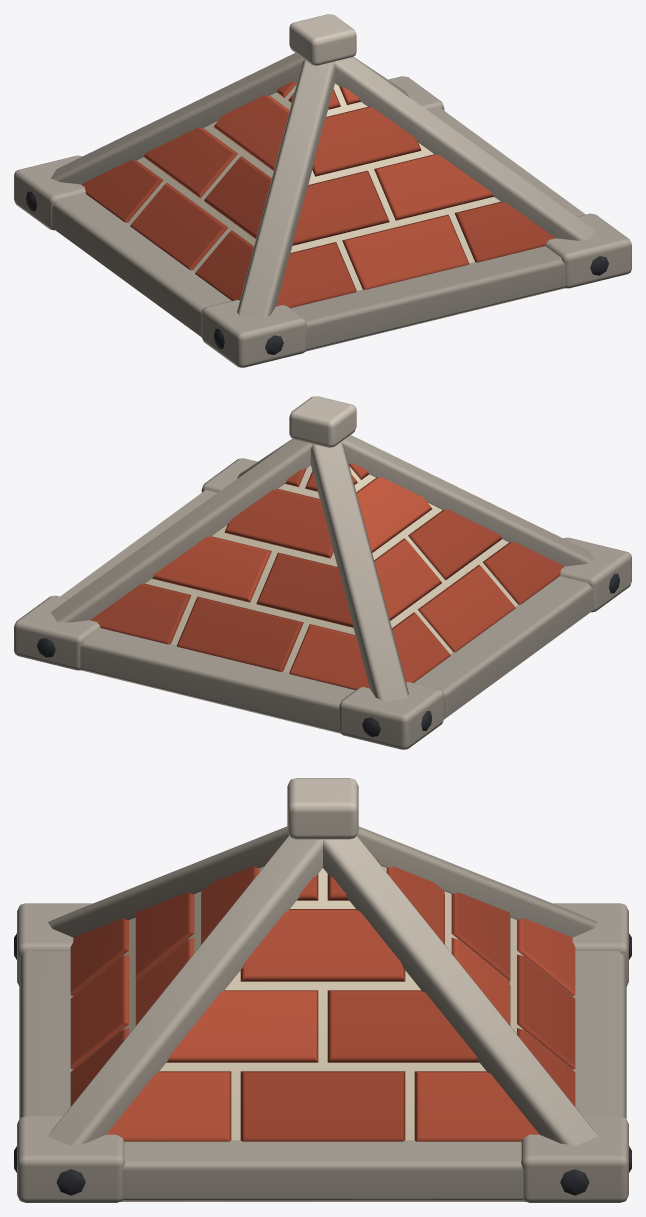
File: pyramid_roof_brick.glb
The picture shows the model from 3 angles, top to bottom: view 1: azimuth 30°, elevation 25°; view 2: azimuth 150°, elevation 25°; view 3: azimuth 270°, elevation 25°; orthographic projection. The views are drawn at different scales.
Visible parts, largest first — view 1: pyramid_roof_brick; view 2: pyramid_roof_brick; view 3: pyramid_roof_brick.
Boxes of the visible parts, x1,y1,x2,y2 form: pyramid_roof_brick: (14,14,631,367); pyramid_roof_brick: (14,396,631,749); pyramid_roof_brick: (14,778,631,1202).
Size of the model in its own units: 4 by 2.05 by 4.
